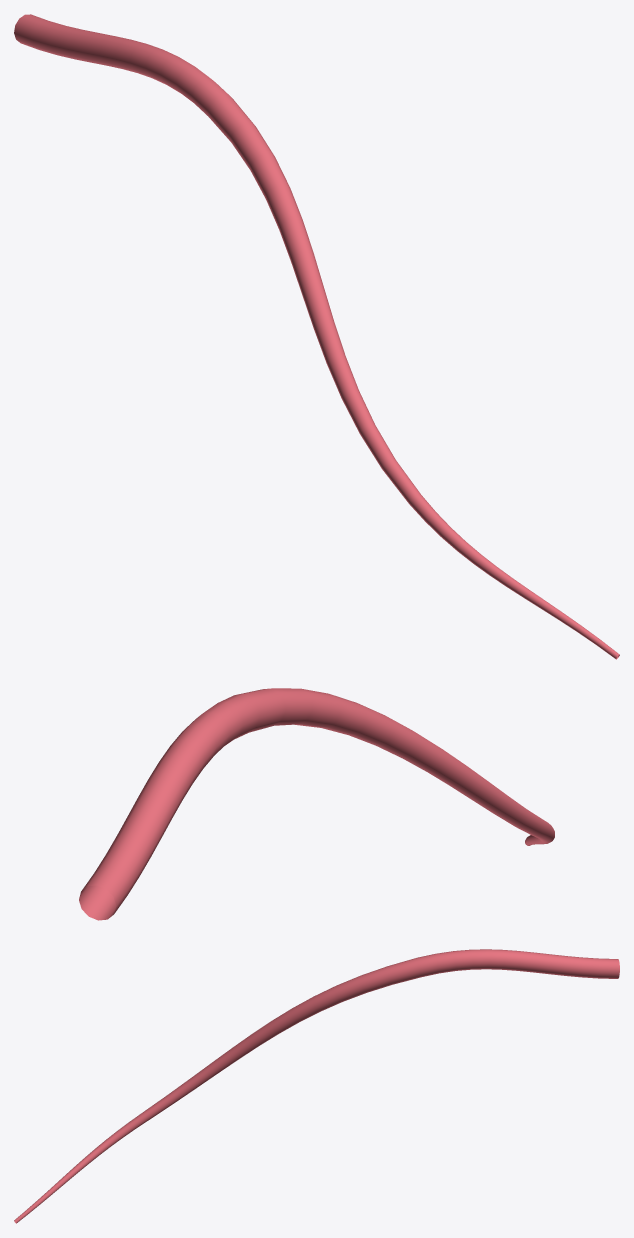
The picture shows the model from 3 angles, top to bottom: view 1: azimuth 30°, elevation 25°; view 2: azimuth 150°, elevation 25°; view 3: azimuth 270°, elevation 25°; orthographic projection. The views are drawn at different scales.
Visible parts, largest first — view 1: ZA_3b33a34e68ff6b82; view 2: ZA_3b33a34e68ff6b82; view 3: ZA_3b33a34e68ff6b82.
Part boxes in pixels (left/top/right/bottom): ZA_3b33a34e68ff6b82: left=14, top=14, right=619, bottom=659; ZA_3b33a34e68ff6b82: left=79, top=688, right=554, bottom=920; ZA_3b33a34e68ff6b82: left=14, top=949, right=619, bottom=1223.
Size of the model in its own units: 0.00551 by 0.0133 by 0.0301.
